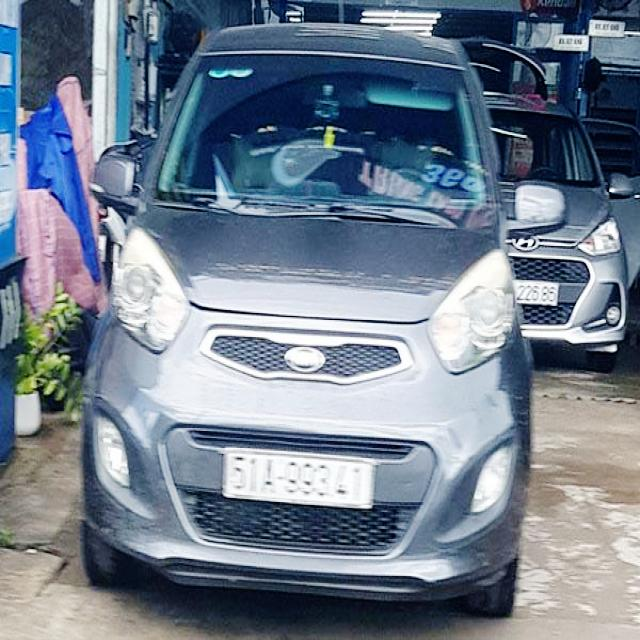license_plate: (222, 452, 377, 513)
